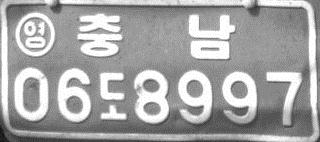0: (13, 67, 49, 121)
6: (56, 67, 91, 122)
7: (265, 70, 302, 126)
8: (133, 68, 169, 125)
9: (177, 69, 214, 125), (222, 70, 258, 124)
도: (98, 72, 128, 121)
영: (14, 11, 55, 58)
충남_D: (76, 12, 235, 60)
